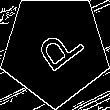P_SW: (25, 19, 85, 79)
